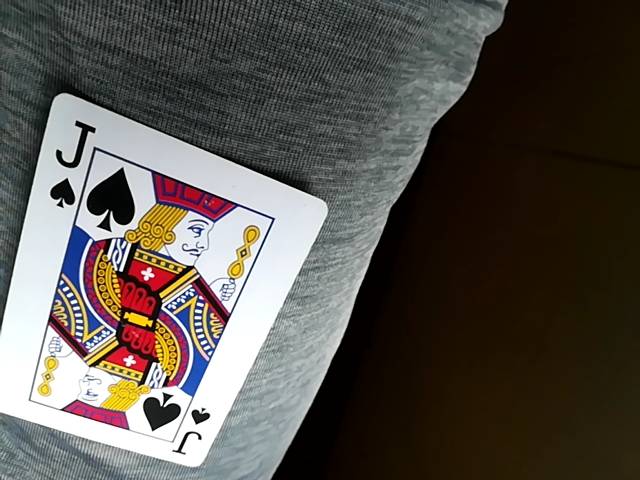ht j: (0, 86, 326, 469)
